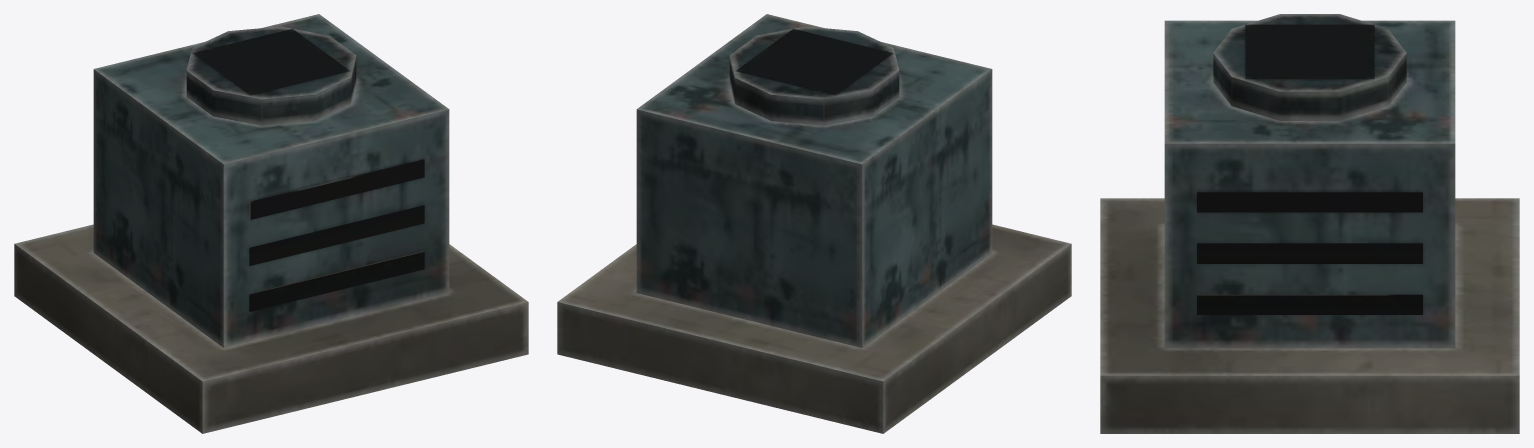
The model's file is vent_fan_0.glb.
3 views of the same model, side by side, from view 1: azimuth 30°, elevation 25°; view 2: azimuth 150°, elevation 25°; view 3: azimuth 270°, elevation 25° (orthographic). The views are drawn at different scales.
Visible parts, largest first — view 1: te_prop_vent_fan_0; view 2: te_prop_vent_fan_0; view 3: te_prop_vent_fan_0.
Part boxes in pixels (bbox=[...]): te_prop_vent_fan_0: bbox=[14, 14, 528, 433]; te_prop_vent_fan_0: bbox=[557, 14, 1071, 433]; te_prop_vent_fan_0: bbox=[1100, 14, 1519, 433].
Bounding box in the file's own units: 0.26 × 0.2006 × 0.26.
1 material, 1 textured.
